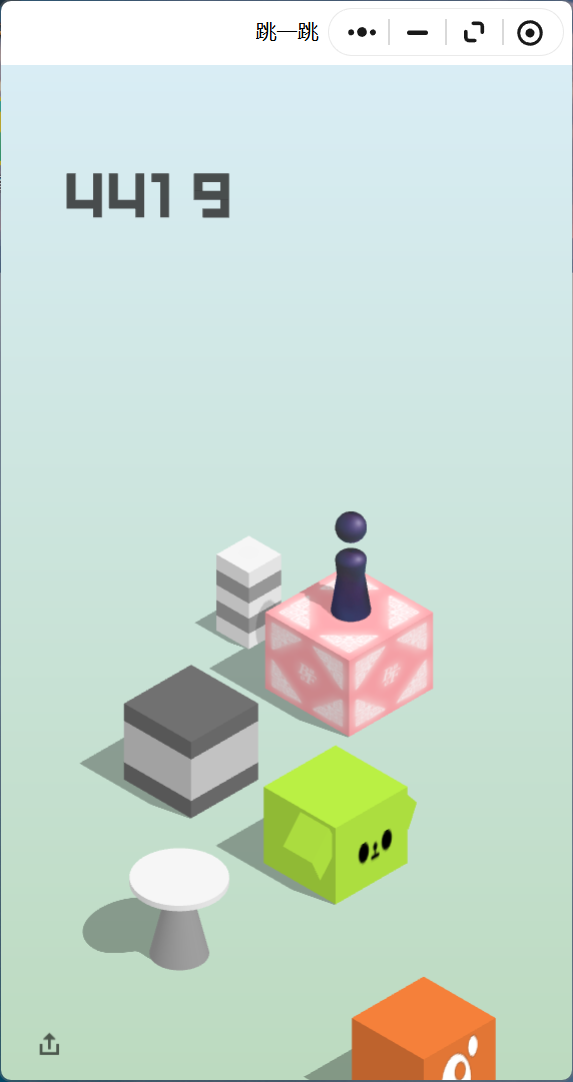piece: (335, 511, 366, 617)
target: (217, 535, 282, 572)
